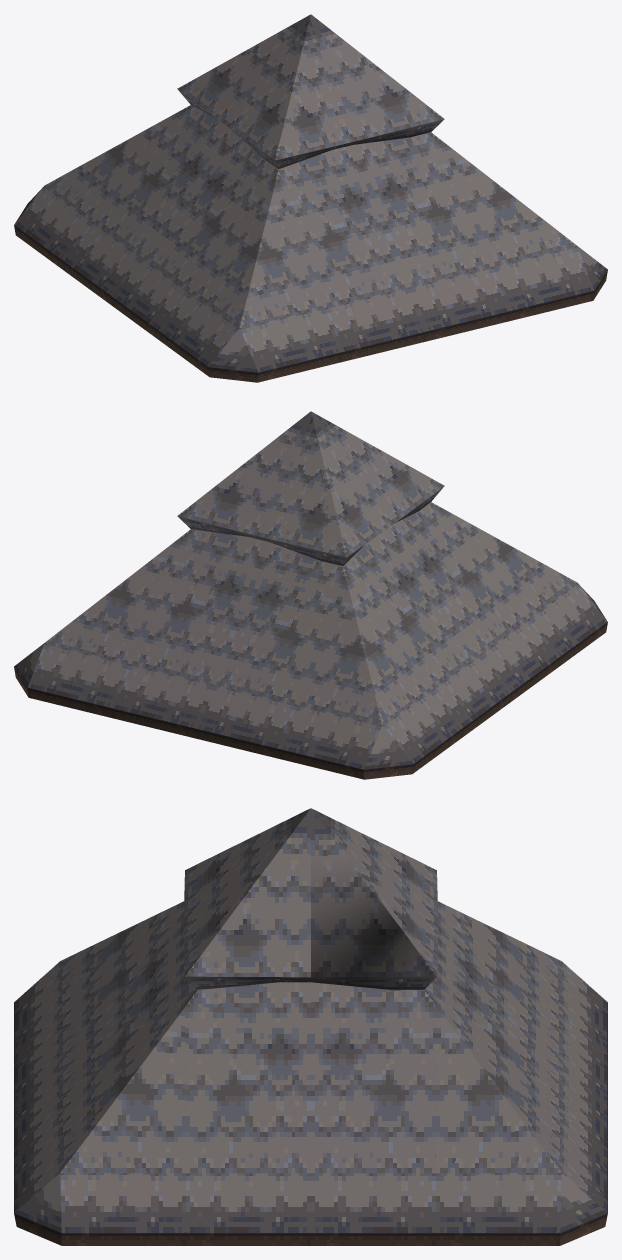
The model's file is roof_blue_square_fancy.glb.
3 renders of one model, top to bottom at view 1: azimuth 30°, elevation 25°; view 2: azimuth 150°, elevation 25°; view 3: azimuth 270°, elevation 25°, orthographic. The views are drawn at different scales.
Visible parts, largest first — view 1: roof_blue_square_fancy; view 2: roof_blue_square_fancy; view 3: roof_blue_square_fancy.
Boxes of the visible parts, x1,y1,x2,y2 form: roof_blue_square_fancy: [14, 14, 607, 382]; roof_blue_square_fancy: [14, 411, 607, 779]; roof_blue_square_fancy: [14, 808, 607, 1245].
Size of the model in its own units: 5.96 by 3.47 by 5.96.
1 material, 1 textured.
